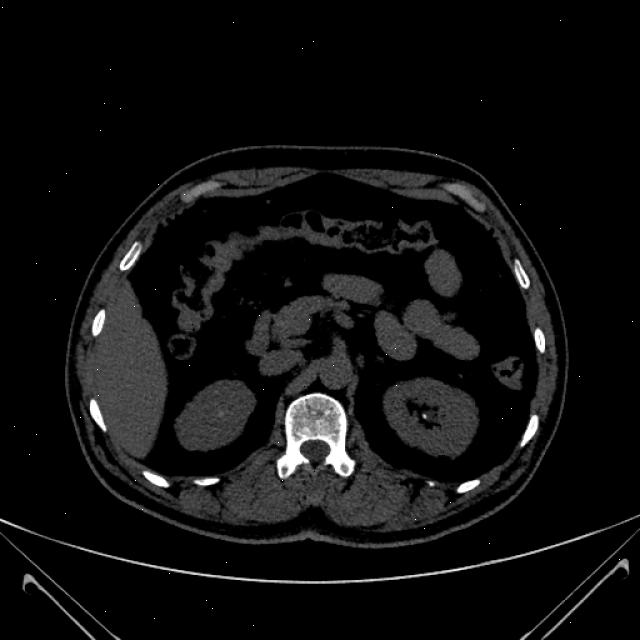kidneystone: (419, 411, 434, 426)
